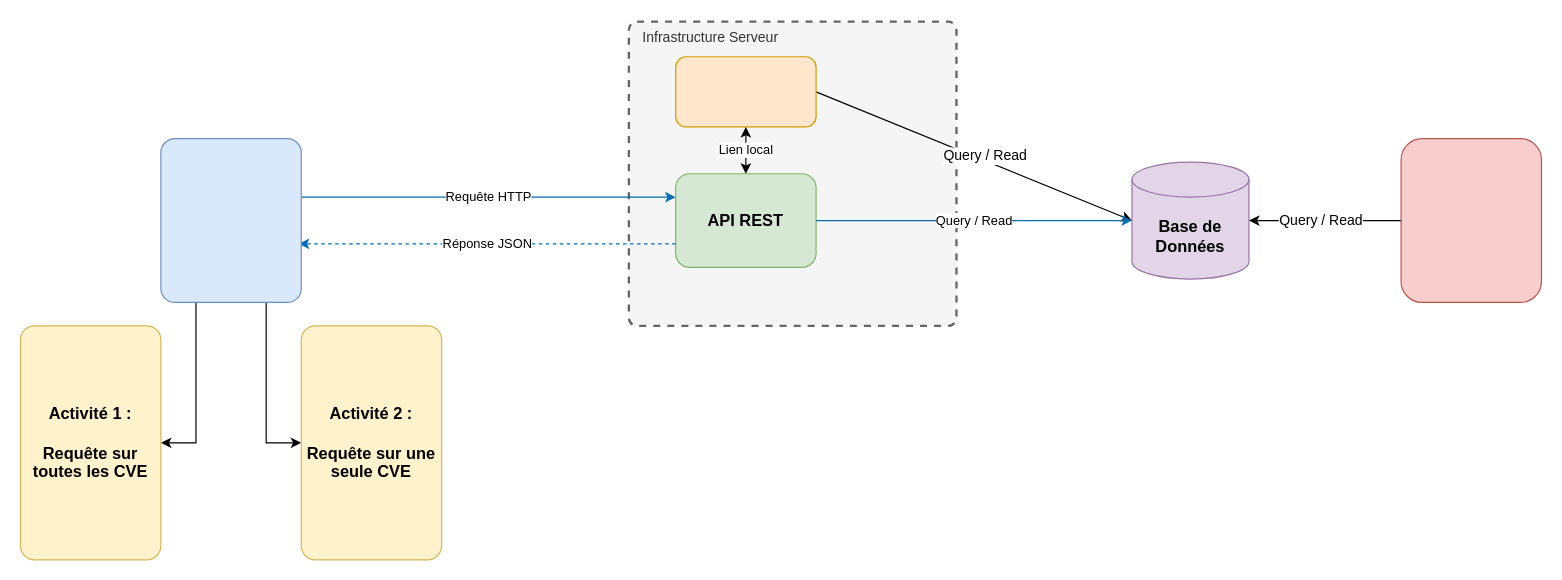
This 1562x580 diagram has some shape labels left out. Each missing label, with the centre of its shape:
Application Android: point 230,219
Application Java: point 1470,219
Serveur Web: point 745,91
